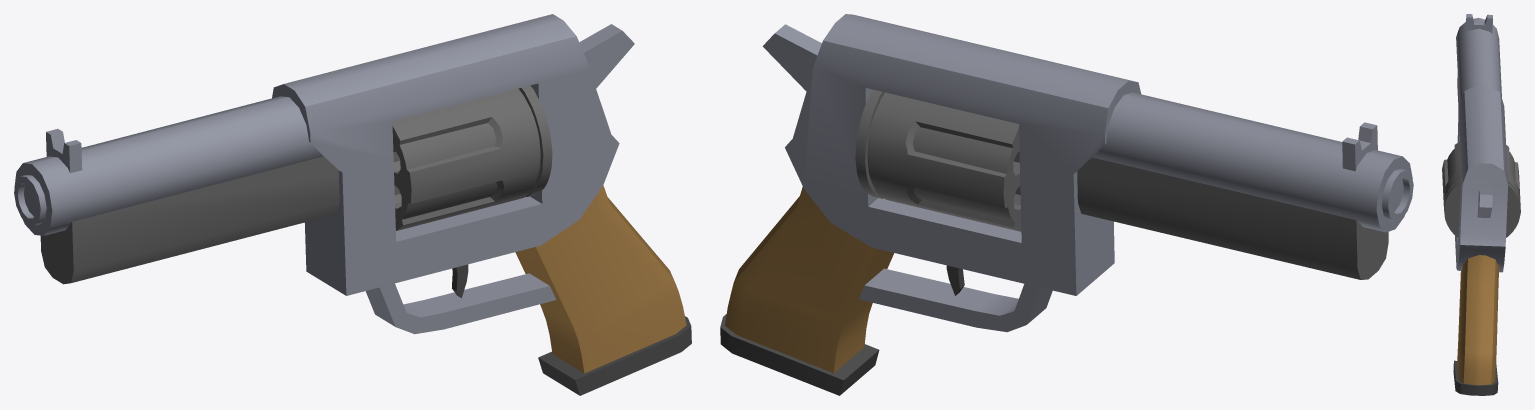
File: quaternius-toon-shooter-game-revolver.glb
3 views of the same model, side by side, from view 1: azimuth 30°, elevation 25°; view 2: azimuth 150°, elevation 25°; view 3: azimuth 270°, elevation 25° (orthographic). The views are drawn at different scales.
Visible parts, largest first — view 1: Revolver; view 2: Revolver; view 3: Revolver.
Boxes of the visible parts, x1,y1,x2,y2 form: Revolver: (14,14,691,395); Revolver: (720,14,1413,395); Revolver: (1442,14,1520,395).
Bounding box in the file's own units: 0.9888 × 0.5289 × 0.1751.
